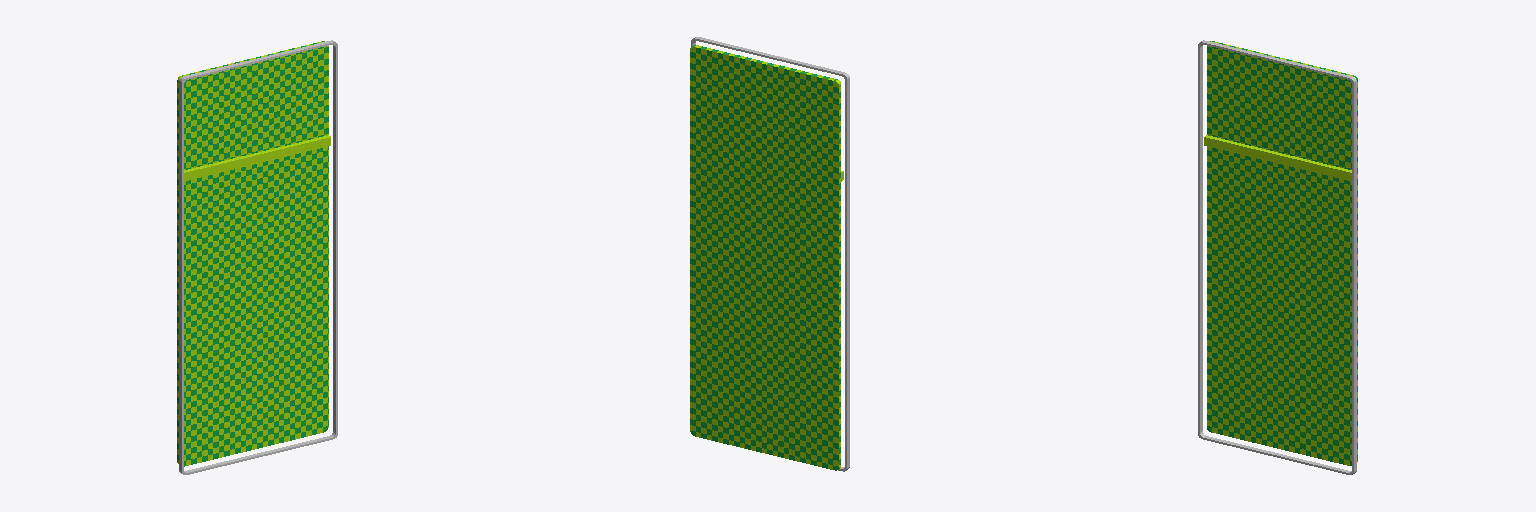
3 renders of one model, left to right at view 1: azimuth 30°, elevation 25°; view 2: azimuth 150°, elevation 25°; view 3: azimuth 330°, elevation 25°, orthographic.
Visible parts, largest first — view 1: Board, Barrier; view 2: Board, Barrier; view 3: Board, Barrier.
Part boxes in pixels (bbox=[...]): Board: bbox=[177, 41, 330, 466]; Barrier: bbox=[179, 40, 337, 474]; Board: bbox=[690, 45, 843, 470]; Barrier: bbox=[691, 37, 849, 471]; Board: bbox=[1204, 41, 1357, 465]; Barrier: bbox=[1198, 40, 1356, 474].
Size of the model in its own units: 21 by 51 by 1.8.
Materials: 2 (1 with a texture image).